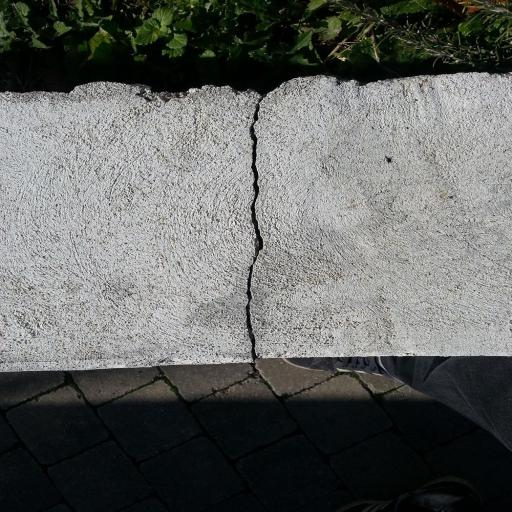spalling: (237, 97, 273, 362)
